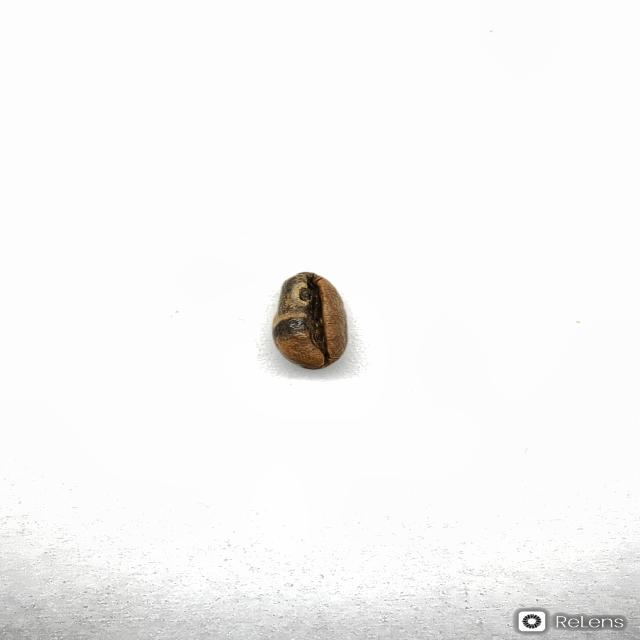Insect damage: (271, 271, 348, 370)
